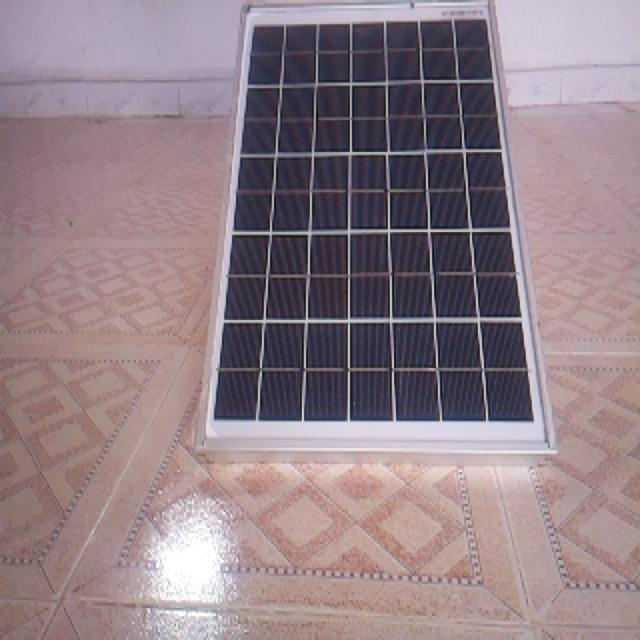Normal Solar Panel: (197, 4, 556, 461)
